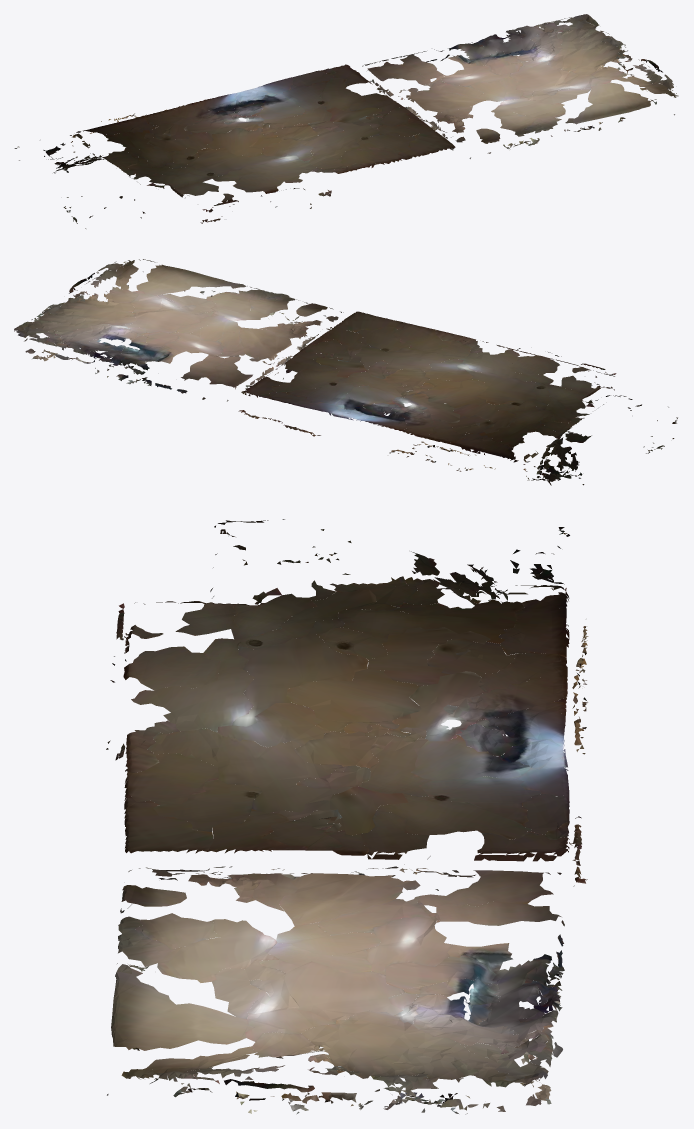
The model's file is esc_sotanos_techo_07.glb.
The picture shows the model from 3 angles, top to bottom: view 1: azimuth 30°, elevation 25°; view 2: azimuth 150°, elevation 25°; view 3: azimuth 270°, elevation 25°; orthographic projection. The views are drawn at different scales.
Visible parts, largest first — view 1: techo_Apartamento_y_bodega_7_GLTF_3, techo_Apartamento_y_bodega_7_GLTF_9, techo_Apartamento_y_bodega_7_GLTF_5, techo_Apartamento_y_bodega_7_GLTF_8, techo_Apartamento_y_bodega_7_GLTF_7, techo_Apartamento_y_bodega_7_GLTF_4, techo_Apartamento_y_bodega_7_GLTF_6, techo_Apartamento_y_bodega_7_GLTF, techo_Apartamento_y_bodega_7_GLTF_1, techo_Apartamento_y_bodega_7_GLTF_10, techo_Apartamento_y_bodega_7_GLTF_11, techo_Apartamento_y_bodega_7_GLTF_2; view 2: techo_Apartamento_y_bodega_7_GLTF_3, techo_Apartamento_y_bodega_7_GLTF_9, techo_Apartamento_y_bodega_7_GLTF_8, techo_Apartamento_y_bodega_7_GLTF_5, techo_Apartamento_y_bodega_7_GLTF_7, techo_Apartamento_y_bodega_7_GLTF_4, techo_Apartamento_y_bodega_7_GLTF_6, techo_Apartamento_y_bodega_7_GLTF_1, techo_Apartamento_y_bodega_7_GLTF, techo_Apartamento_y_bodega_7_GLTF_11, techo_Apartamento_y_bodega_7_GLTF_10, techo_Apartamento_y_bodega_7_GLTF_2; view 3: techo_Apartamento_y_bodega_7_GLTF_3, techo_Apartamento_y_bodega_7_GLTF_9, techo_Apartamento_y_bodega_7_GLTF_5, techo_Apartamento_y_bodega_7_GLTF_8, techo_Apartamento_y_bodega_7_GLTF_7, techo_Apartamento_y_bodega_7_GLTF_4, techo_Apartamento_y_bodega_7_GLTF_6, techo_Apartamento_y_bodega_7_GLTF, techo_Apartamento_y_bodega_7_GLTF_1, techo_Apartamento_y_bodega_7_GLTF_10, techo_Apartamento_y_bodega_7_GLTF_11, techo_Apartamento_y_bodega_7_GLTF_2.
Part boxes in pixels (bbox=[...]): techo_Apartamento_y_bodega_7_GLTF_3: bbox=[19, 17, 674, 228]; techo_Apartamento_y_bodega_7_GLTF_9: bbox=[44, 55, 676, 221]; techo_Apartamento_y_bodega_7_GLTF_5: bbox=[80, 62, 632, 193]; techo_Apartamento_y_bodega_7_GLTF_8: bbox=[55, 18, 632, 216]; techo_Apartamento_y_bodega_7_GLTF_7: bbox=[54, 31, 618, 173]; techo_Apartamento_y_bodega_7_GLTF_4: bbox=[64, 23, 673, 223]; techo_Apartamento_y_bodega_7_GLTF_6: bbox=[71, 39, 525, 223]; techo_Apartamento_y_bodega_7_GLTF: bbox=[18, 30, 630, 218]; techo_Apartamento_y_bodega_7_GLTF_1: bbox=[43, 22, 669, 212]; techo_Apartamento_y_bodega_7_GLTF_10: bbox=[14, 25, 653, 222]; techo_Apartamento_y_bodega_7_GLTF_11: bbox=[45, 14, 678, 211]; techo_Apartamento_y_bodega_7_GLTF_2: bbox=[53, 32, 609, 172]; techo_Apartamento_y_bodega_7_GLTF_3: bbox=[69, 265, 676, 485]; techo_Apartamento_y_bodega_7_GLTF_9: bbox=[115, 261, 612, 472]; techo_Apartamento_y_bodega_7_GLTF_8: bbox=[29, 259, 677, 479]; techo_Apartamento_y_bodega_7_GLTF_5: bbox=[48, 274, 591, 455]; techo_Apartamento_y_bodega_7_GLTF_7: bbox=[36, 290, 657, 476]; techo_Apartamento_y_bodega_7_GLTF_4: bbox=[27, 261, 664, 462]; techo_Apartamento_y_bodega_7_GLTF_6: bbox=[46, 299, 614, 479]; techo_Apartamento_y_bodega_7_GLTF_1: bbox=[24, 265, 632, 479]; techo_Apartamento_y_bodega_7_GLTF: bbox=[54, 272, 668, 475]; techo_Apartamento_y_bodega_7_GLTF_11: bbox=[14, 260, 653, 481]; techo_Apartamento_y_bodega_7_GLTF_10: bbox=[51, 294, 664, 480]; techo_Apartamento_y_bodega_7_GLTF_2: bbox=[27, 268, 427, 399]; techo_Apartamento_y_bodega_7_GLTF_3: bbox=[107, 532, 563, 1102]; techo_Apartamento_y_bodega_7_GLTF_9: bbox=[118, 527, 583, 1079]; techo_Apartamento_y_bodega_7_GLTF_5: bbox=[123, 551, 585, 1110]; techo_Apartamento_y_bodega_7_GLTF_8: bbox=[117, 519, 552, 1109]; techo_Apartamento_y_bodega_7_GLTF_7: bbox=[135, 560, 586, 1098]; techo_Apartamento_y_bodega_7_GLTF_4: bbox=[117, 561, 569, 1083]; techo_Apartamento_y_bodega_7_GLTF_6: bbox=[116, 577, 567, 1112]; techo_Apartamento_y_bodega_7_GLTF: bbox=[106, 525, 585, 1097]; techo_Apartamento_y_bodega_7_GLTF_1: bbox=[112, 553, 586, 1111]; techo_Apartamento_y_bodega_7_GLTF_10: bbox=[115, 529, 587, 1104]; techo_Apartamento_y_bodega_7_GLTF_11: bbox=[121, 529, 588, 1114]; techo_Apartamento_y_bodega_7_GLTF_2: bbox=[152, 590, 569, 1107].
Size of the model in its own units: 17.59 by 0.7469 by 6.35.
12 materials, 12 textured.
